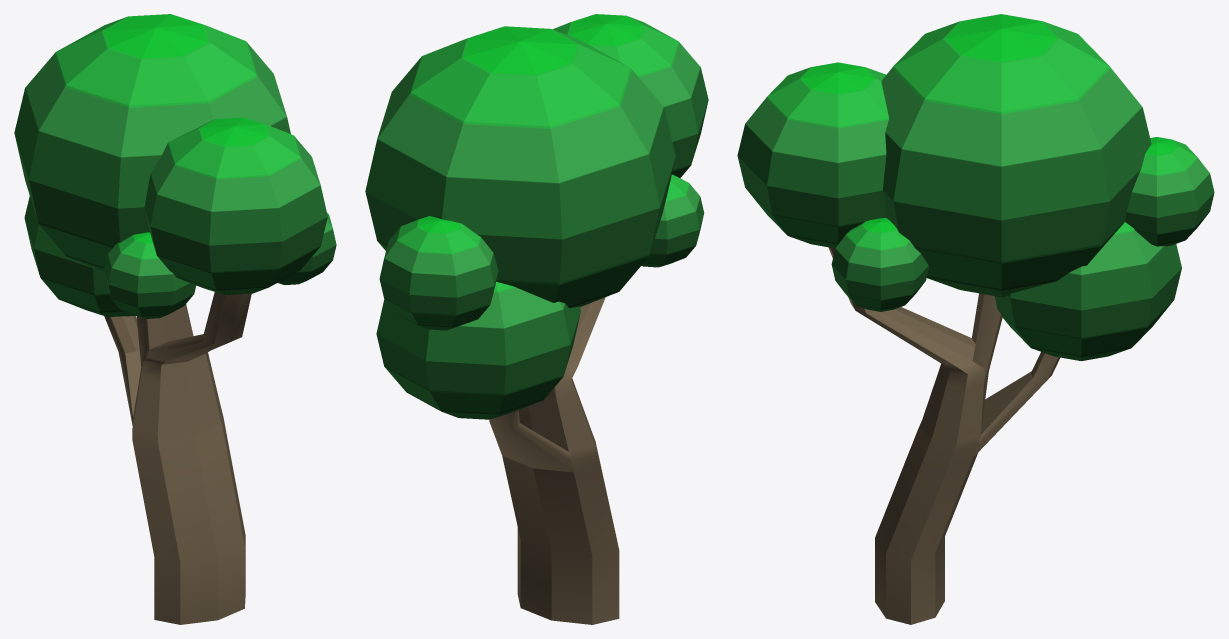
Rendered from tree-3.fbx.
The picture shows the model from 3 angles, left to right: view 1: azimuth 30°, elevation 25°; view 2: azimuth 150°, elevation 25°; view 3: azimuth 270°, elevation 25°; orthographic projection. The views are drawn at different scales.
Parts seen in each view (by area): view 1: polySurface14, polySurface17; view 2: polySurface14, polySurface17; view 3: polySurface14, polySurface17.
Part boxes in pixels (x1,y1,x2,y2): polySurface14: (14, 14, 336, 318); polySurface17: (104, 292, 251, 624); polySurface14: (365, 14, 708, 419); polySurface17: (489, 297, 619, 624); polySurface14: (737, 14, 1214, 361); polySurface17: (828, 247, 1059, 624).
Size of the model in its own units: 8.59 by 17.69 by 13.36.
2 materials, 1 textured.
